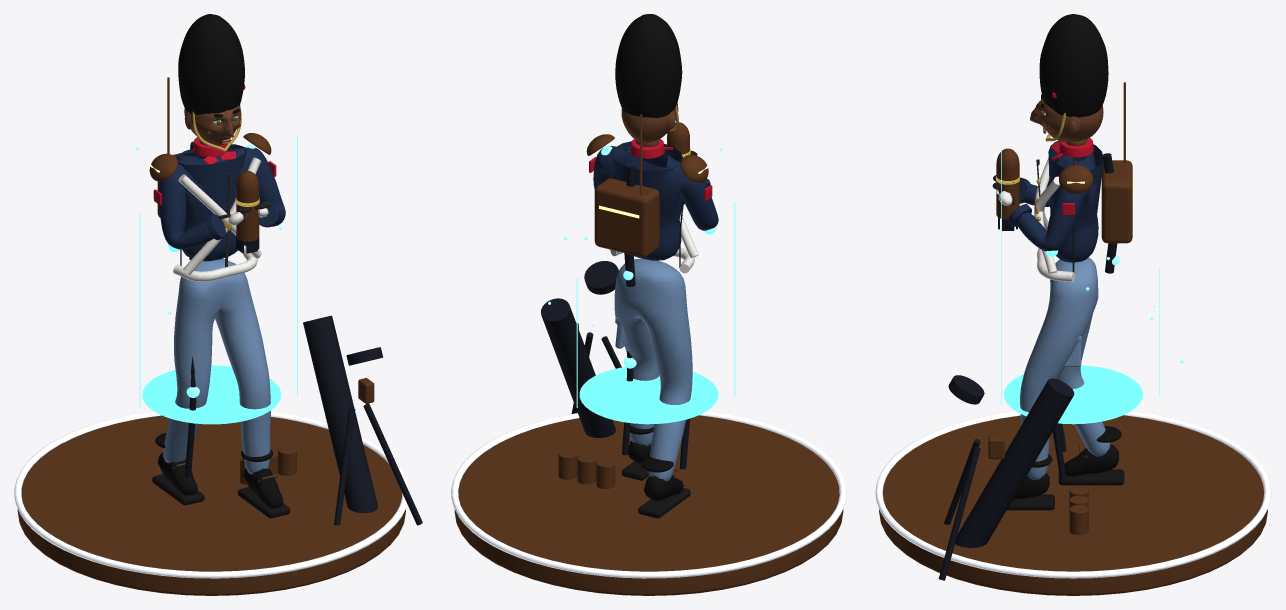
The model's file is morter_kbh.glb.
The picture shows the model from 3 angles, left to right: view 1: azimuth 30°, elevation 25°; view 2: azimuth 150°, elevation 25°; view 3: azimuth 270°, elevation 25°; orthographic projection.
Visible parts, largest first — view 1: fod_net, menneske_net, morter_net, hoved_net, op4.001_net, op1_net, vaaben_net, op3_net, op4_net; view 2: fod_net, menneske_net, hoved_net, morter_net, op3_net, op4.001_net, op4_net, op1_net, vaaben_net; view 3: fod_net, menneske_net, morter_net, hoved_net, op4.001_net, op3_net, op1_net, vaaben_net, op4_net.
Boxes of the visible parts, x1,y1,x2,y2 form: fod_net: [14, 411, 409, 595]; menneske_net: [152, 137, 290, 518]; morter_net: [240, 315, 422, 525]; hoved_net: [178, 14, 245, 151]; op4.001_net: [136, 136, 297, 424]; op1_net: [173, 157, 261, 281]; vaaben_net: [235, 170, 259, 253]; op3_net: [149, 77, 271, 217]; op4_net: [168, 141, 282, 477]; fod_net: [451, 411, 846, 595]; menneske_net: [589, 139, 718, 518]; hoved_net: [615, 14, 682, 143]; morter_net: [541, 261, 621, 488]; op3_net: [586, 114, 708, 257]; op4.001_net: [548, 148, 735, 424]; op4_net: [601, 146, 715, 469]; op1_net: [610, 214, 698, 273]; vaaben_net: [667, 122, 690, 204]; fod_net: [875, 411, 1271, 595]; menneske_net: [992, 137, 1124, 510]; morter_net: [938, 375, 1088, 580]; hoved_net: [1030, 14, 1108, 142]; op4.001_net: [1001, 146, 1183, 424]; op3_net: [1059, 82, 1133, 243]; op1_net: [1034, 142, 1075, 282]; vaaben_net: [996, 148, 1019, 230]; op4_net: [1045, 153, 1119, 480].
Bounding box in the file's own units: 1.94 × 2.7 × 1.94.
